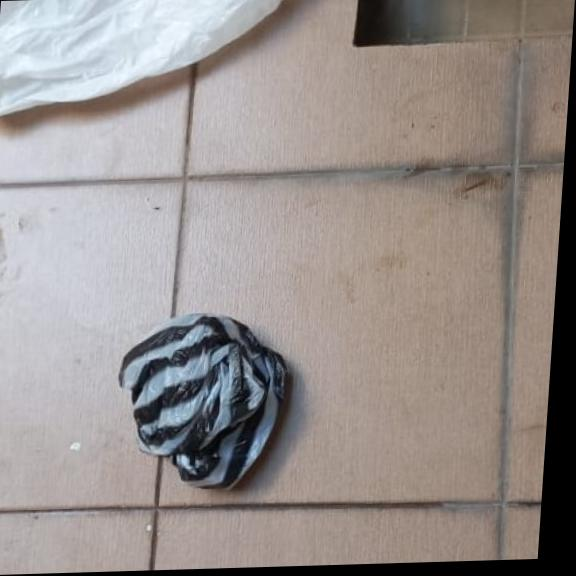Plastik: (109, 308, 290, 493), (0, 0, 285, 116)
